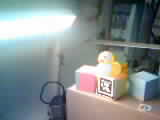duck: (86, 44, 133, 80)
